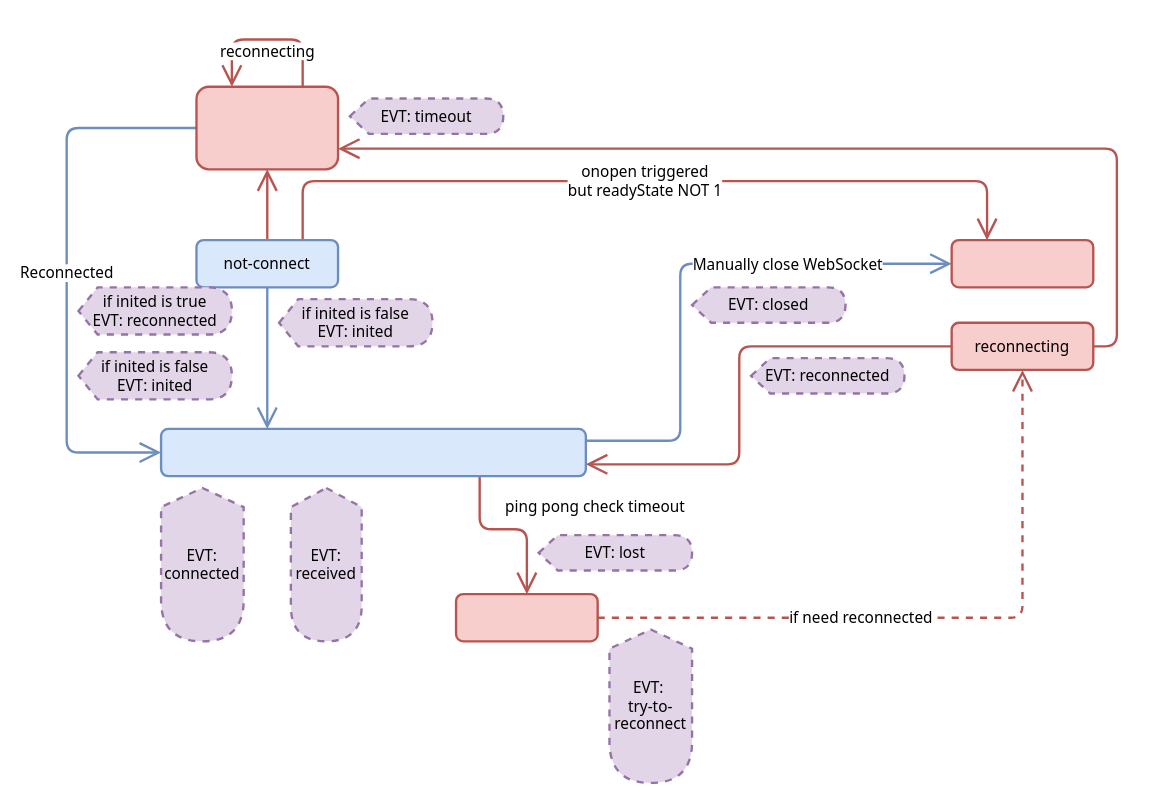
Image size: 1158x804. Some labels were removed from this diagram. The shapes that lost their labels are listed below. From the top down, each one's centre as x and y in pixels, then its label:
the point at 267,127: timeout
the point at 1022,263: closed
the point at 372,452: connected
the point at 526,617: lost
